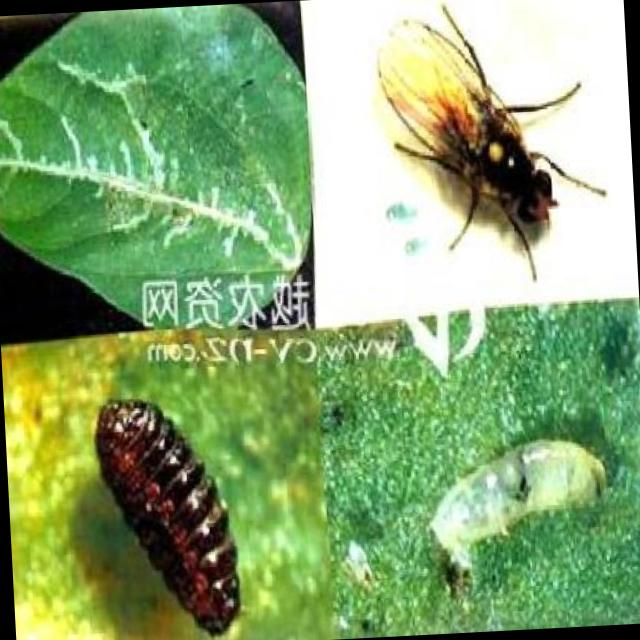whorl-maggot: (87, 389, 268, 640), (418, 422, 618, 576)
